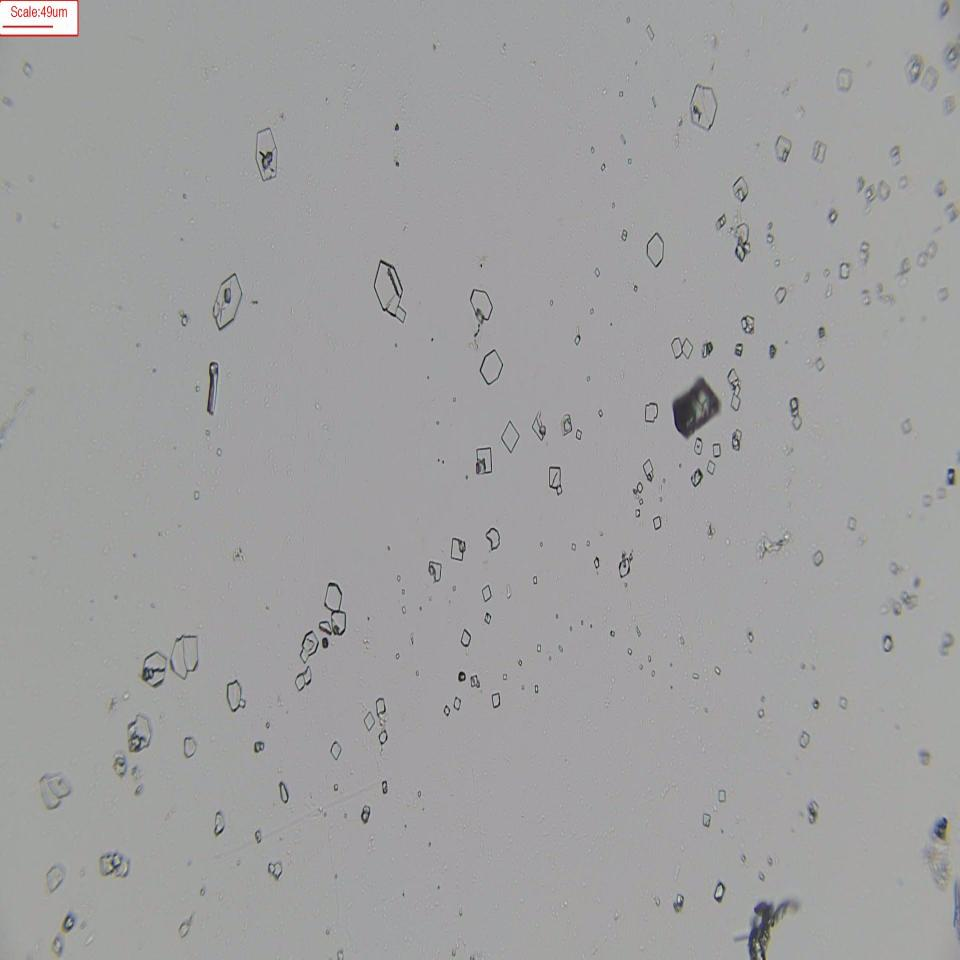crystal: (670, 380, 724, 437), (251, 118, 283, 191), (209, 266, 244, 328), (373, 256, 404, 322), (686, 80, 720, 134), (168, 631, 204, 679), (467, 283, 498, 324), (207, 355, 224, 428), (476, 345, 506, 386), (644, 224, 666, 277), (143, 647, 168, 690), (751, 898, 770, 954), (473, 439, 495, 481), (45, 854, 66, 894), (502, 414, 521, 457), (298, 626, 319, 664), (223, 676, 245, 712), (795, 722, 814, 758), (731, 176, 752, 207), (640, 399, 662, 428), (773, 134, 794, 164), (325, 581, 343, 615), (328, 607, 348, 637), (487, 521, 503, 558), (547, 459, 563, 493), (712, 876, 727, 910), (182, 729, 197, 759), (731, 338, 749, 363), (774, 283, 790, 310), (328, 736, 343, 764), (490, 688, 504, 716), (278, 779, 291, 808), (670, 336, 684, 360), (682, 336, 695, 361), (482, 580, 494, 606), (362, 711, 376, 733), (840, 261, 852, 285), (374, 695, 388, 715), (882, 634, 894, 657), (377, 726, 390, 746), (461, 628, 472, 649), (694, 436, 704, 459), (711, 440, 723, 458), (651, 514, 662, 532), (574, 426, 586, 442), (707, 460, 717, 478), (637, 479, 645, 498)
